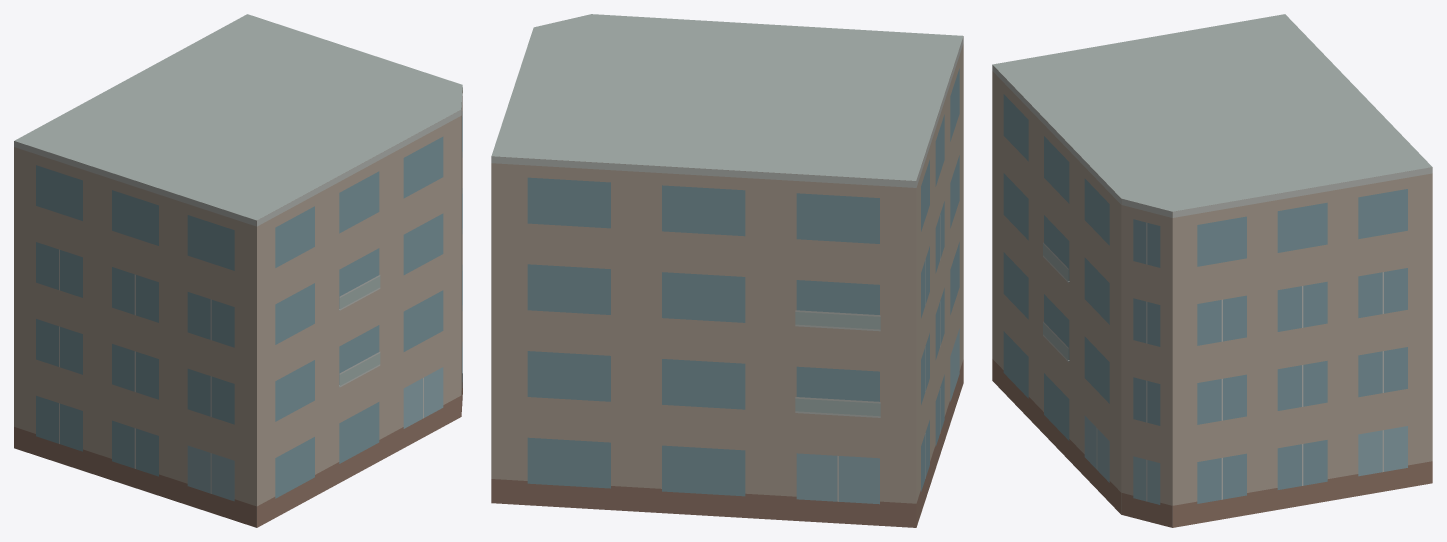
Rendered from residential-f2e38b63-21ff-4d11-b587-1312f2c0d047.glb.
The picture shows the model from 3 angles, left to right: view 1: azimuth 30°, elevation 25°; view 2: azimuth 150°, elevation 25°; view 3: azimuth 270°, elevation 25°; orthographic projection. The views are drawn at different scales.
Visible parts, largest first — view 1: residential-f2e38b63-21ff-4d11-b587-1312f2c0d047.tmp; view 2: residential-f2e38b63-21ff-4d11-b587-1312f2c0d047.tmp; view 3: residential-f2e38b63-21ff-4d11-b587-1312f2c0d047.tmp.
Boxes of the visible parts, x1,y1,x2,y2 form: residential-f2e38b63-21ff-4d11-b587-1312f2c0d047.tmp: (14, 14, 462, 527); residential-f2e38b63-21ff-4d11-b587-1312f2c0d047.tmp: (491, 14, 963, 527); residential-f2e38b63-21ff-4d11-b587-1312f2c0d047.tmp: (992, 14, 1432, 527).
Size of the model in its own units: 16.37 by 12.2 by 15.41.
